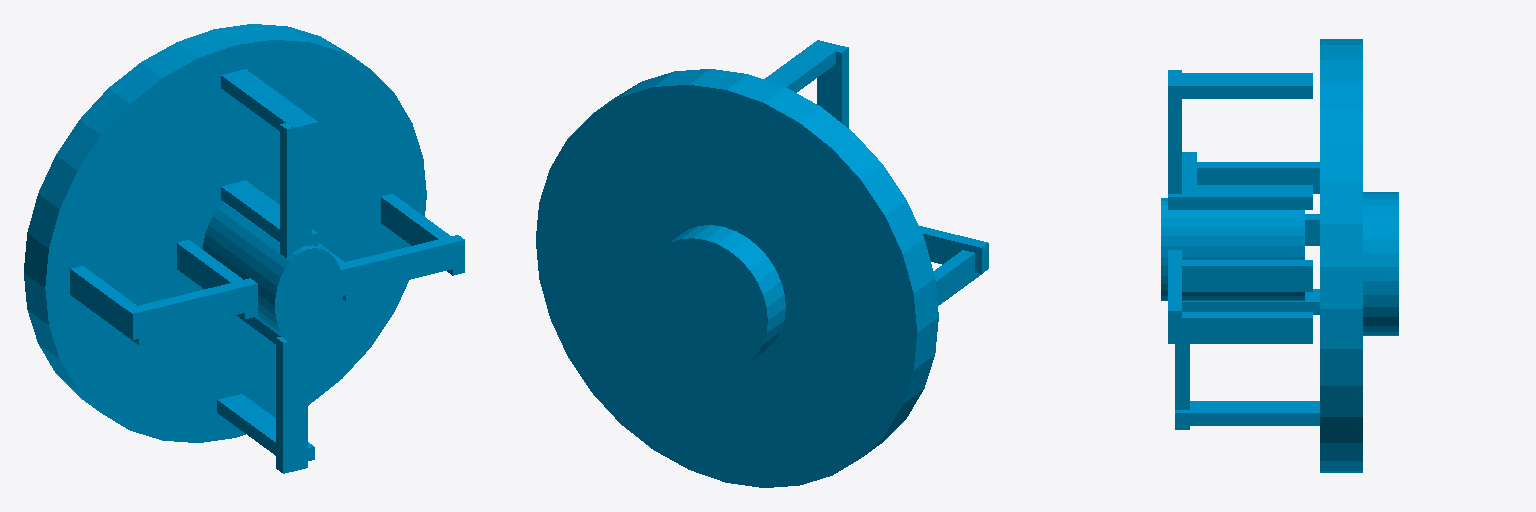
Rendered from RoundAbout.obj.
3 renders of one model, left to right at view 1: azimuth 30°, elevation 25°; view 2: azimuth 150°, elevation 25°; view 3: azimuth 270°, elevation 25°, orthographic.
Parts seen in each view (by area): view 1: obj_0; view 2: obj_0; view 3: obj_0.
Boxes of the visible parts, x1,y1,x2,y2 form: obj_0: [24, 24, 464, 473]; obj_0: [536, 40, 988, 487]; obj_0: [1161, 39, 1398, 472].
Bounding box in the file's own units: 61 × 60 × 33.